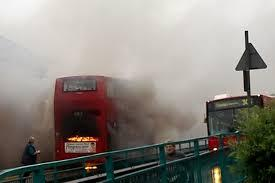smoke: (6, 0, 241, 81), (113, 82, 206, 149), (2, 81, 53, 146)
